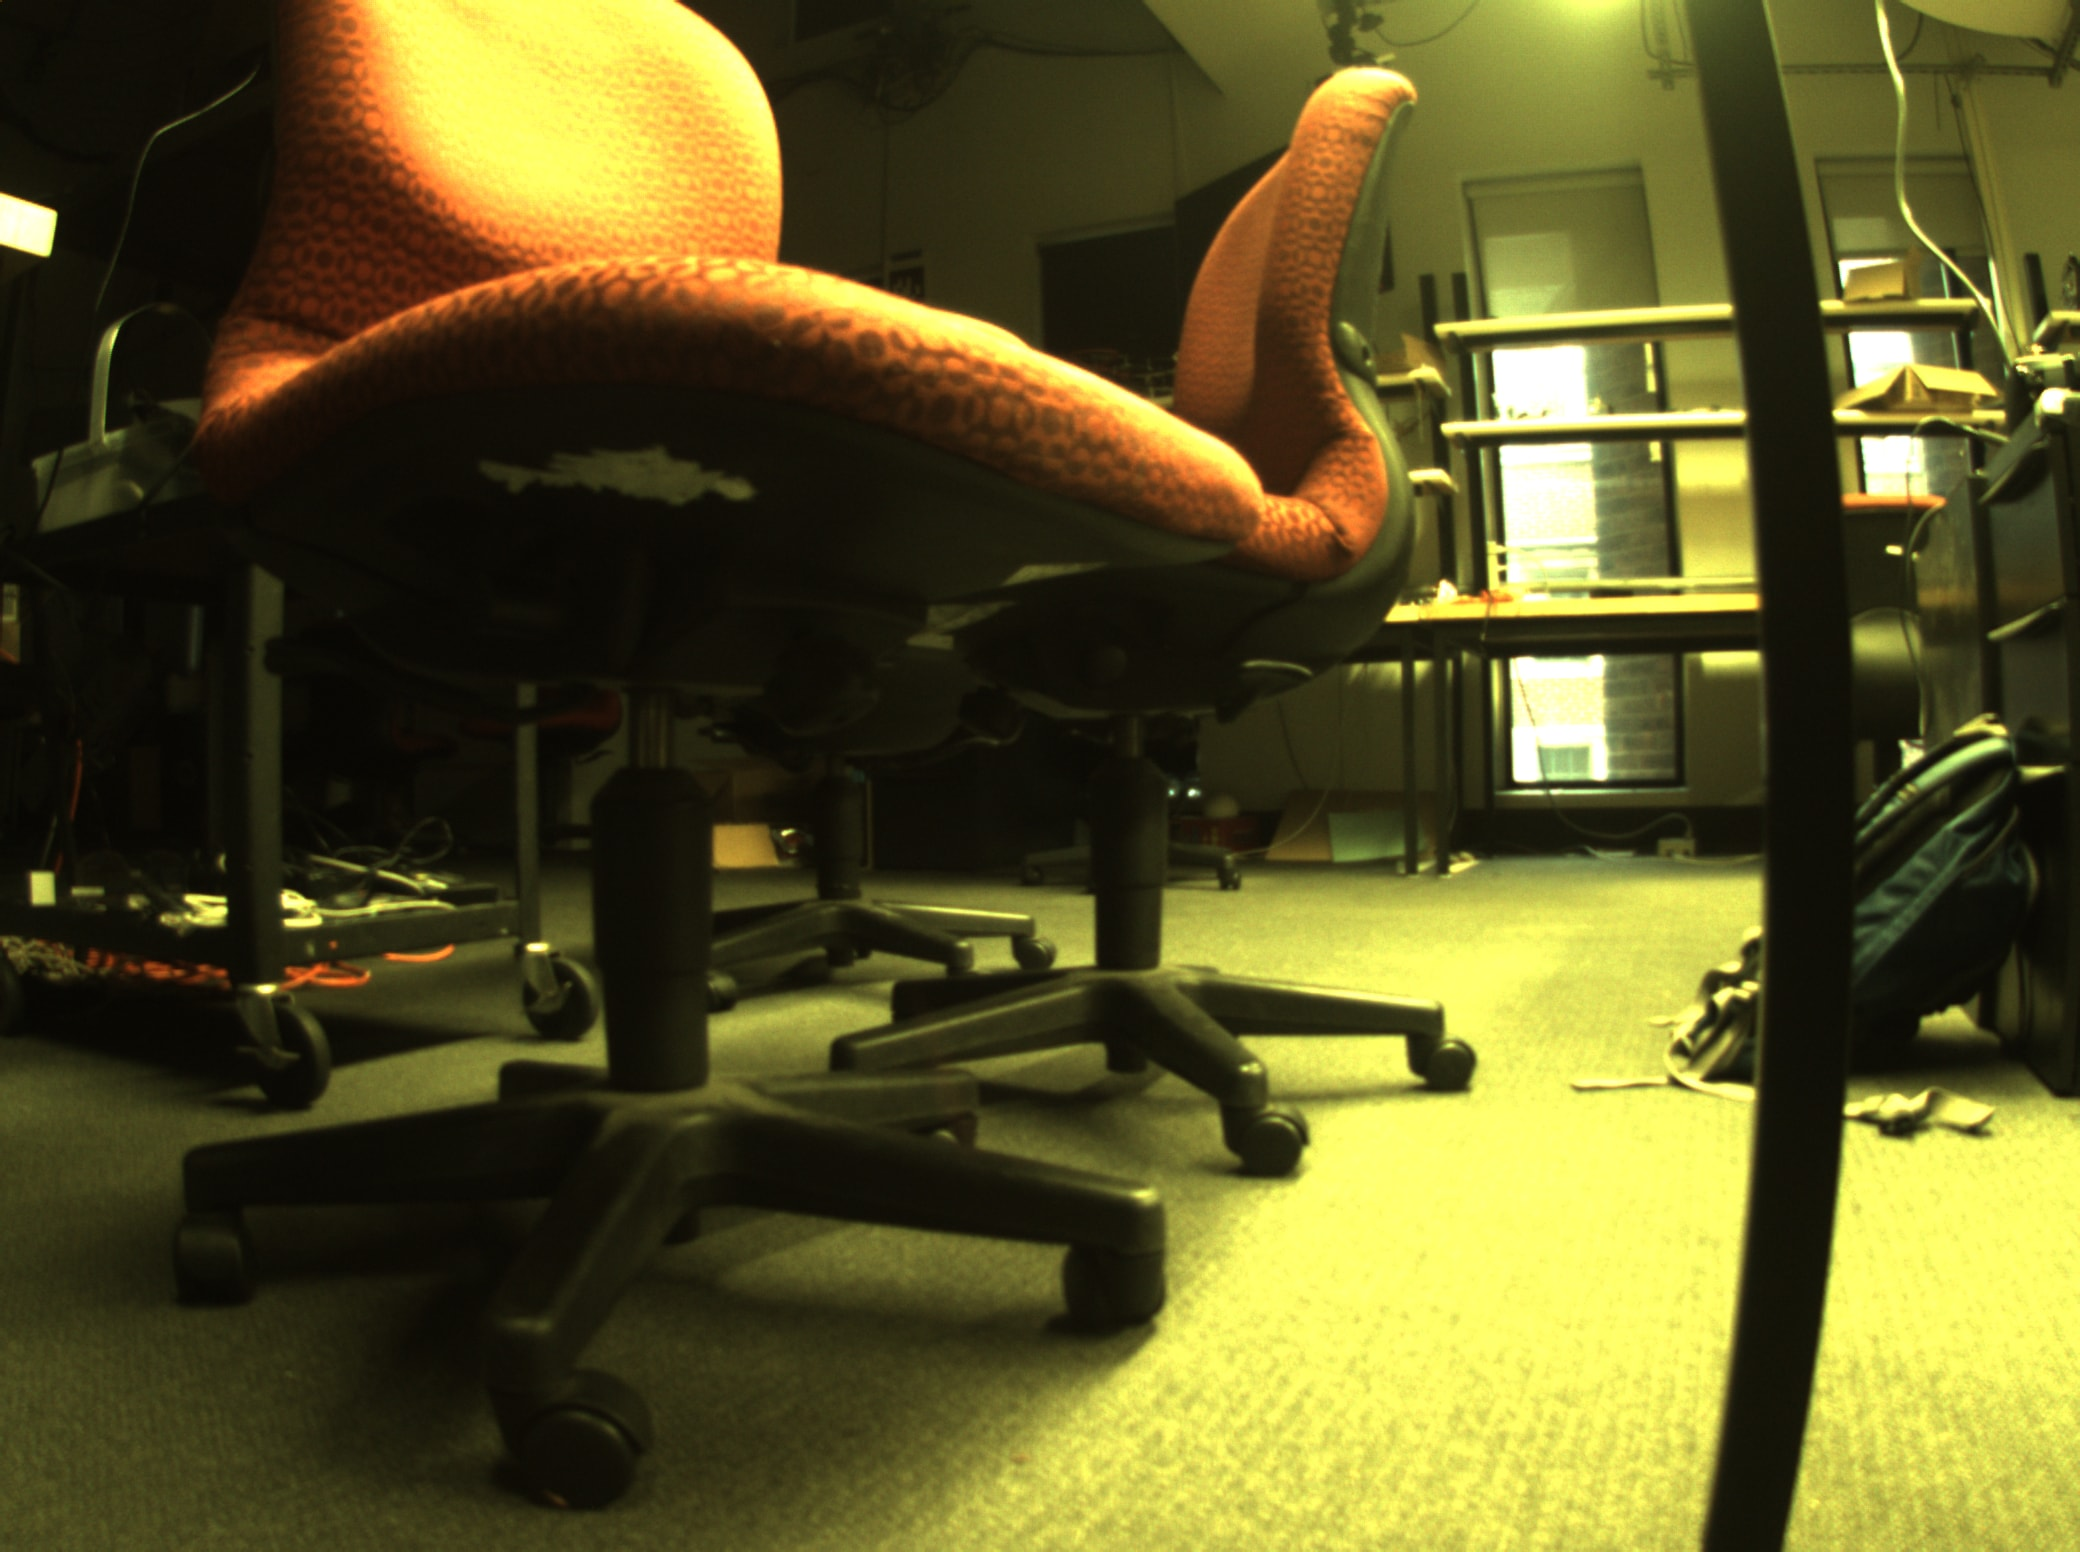chair: (158, 3, 1249, 1430), (786, 3, 1531, 1203)
